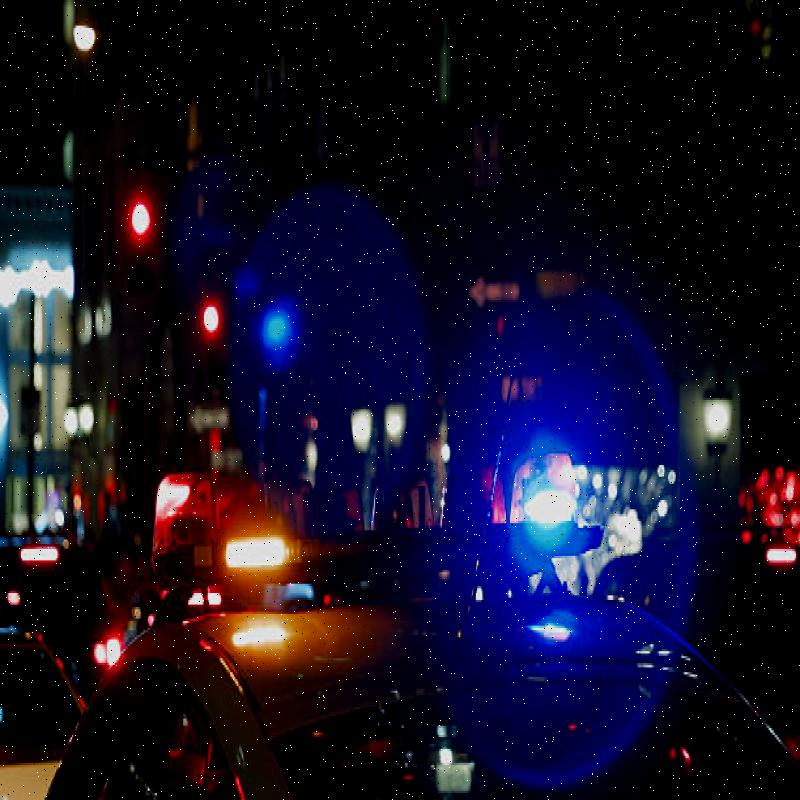AmbulanceSiren: (125, 457, 590, 592)
